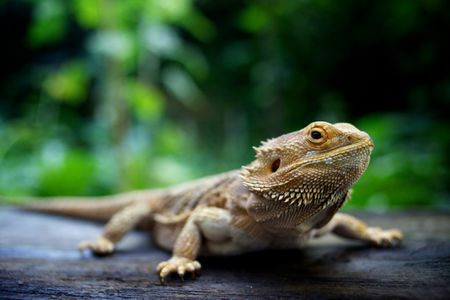bearded: (1, 118, 403, 282)
